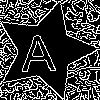A: (20, 25, 57, 72)
